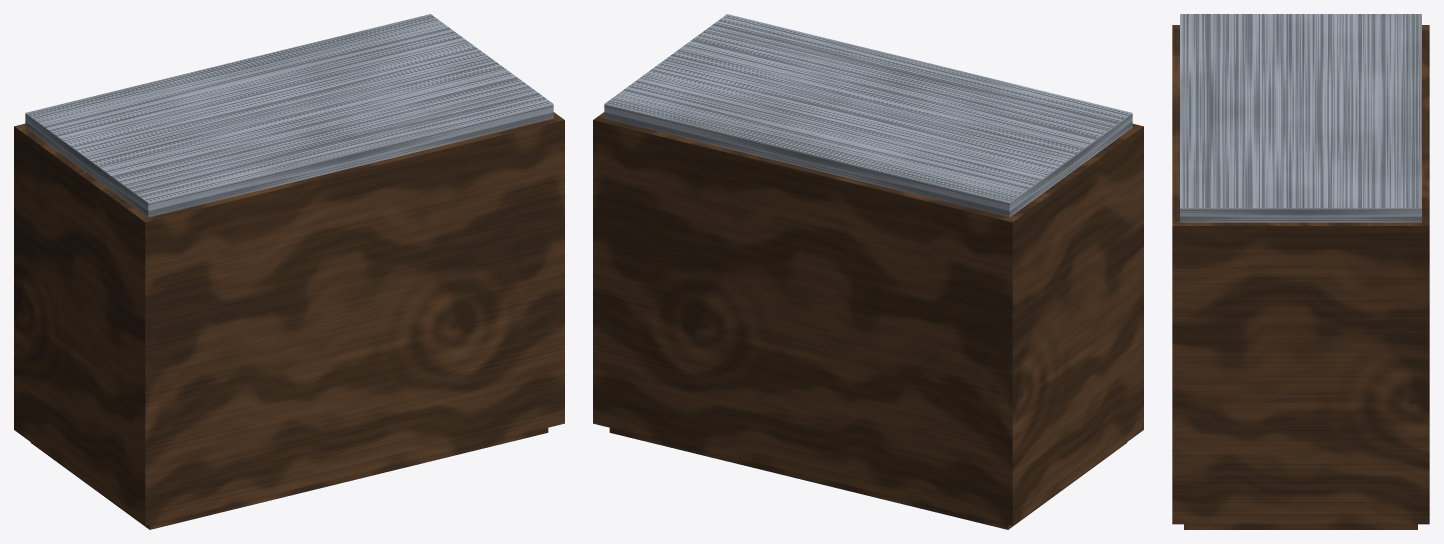
Rendered from plinth.fbx.
3 views of the same model, side by side, from view 1: azimuth 30°, elevation 25°; view 2: azimuth 150°, elevation 25°; view 3: azimuth 270°, elevation 25° (orthographic).
Parts seen in each view (by area): view 1: plinth; view 2: plinth; view 3: plinth.
Boxes of the visible parts, x1=… form: plinth: x1=14, y1=14, x2=564, y2=529; plinth: x1=593, y1=14, x2=1143, y2=529; plinth: x1=1172, y1=14, x2=1429, y2=529.
Size of the model in its own units: 120 by 90 by 65.
